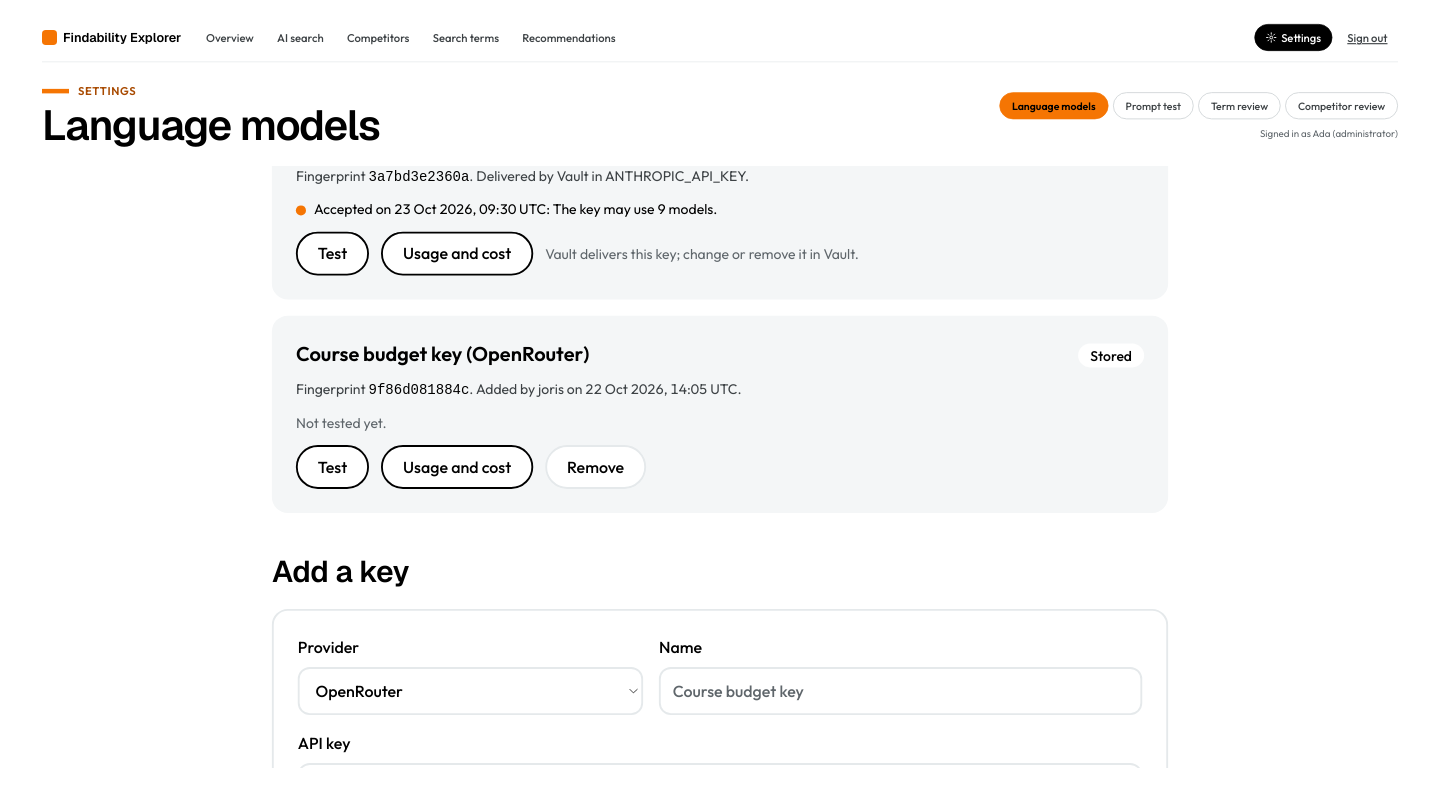
testing and removing a key › tests a key and shows the provider's answer
The width and height of the screenshot is (1440, 810).
(page scrolled)
Step 1. Click the button "Test" below "Course budget key (OpenRouter)" → (333, 467), box x1=296 y1=445 x2=369 y2=489
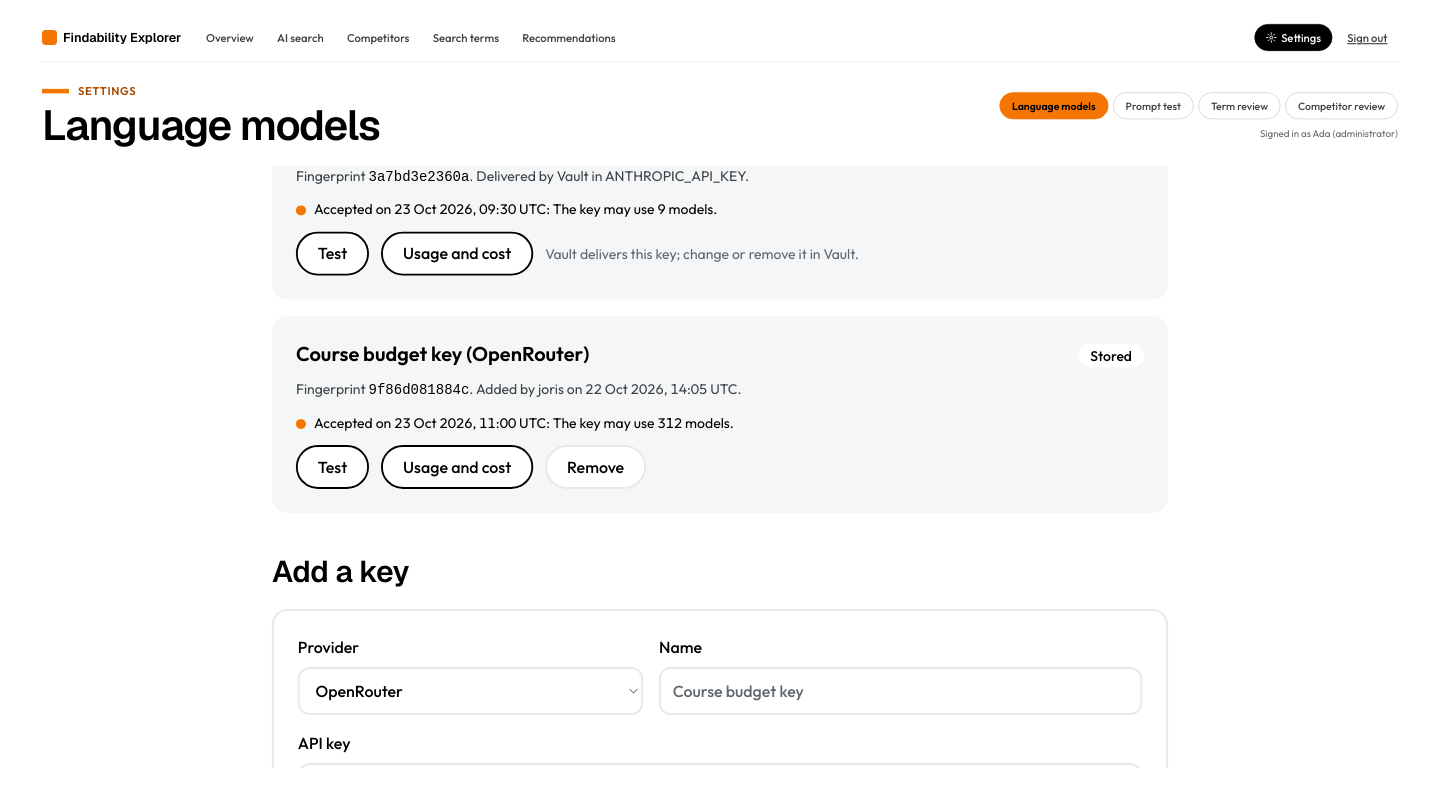
Result: the text "Accepted on 23 Oct 2026, 11:00 UTC: The key may use 312 models." is shown at x1=296 y1=414 x2=734 y2=432
